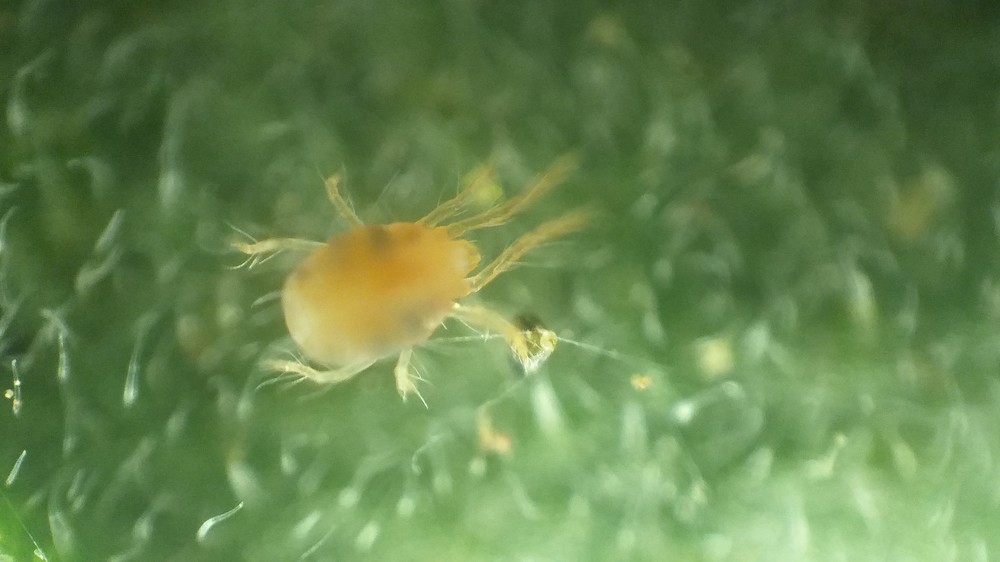Aracnido Rojo: (216, 151, 624, 435)
